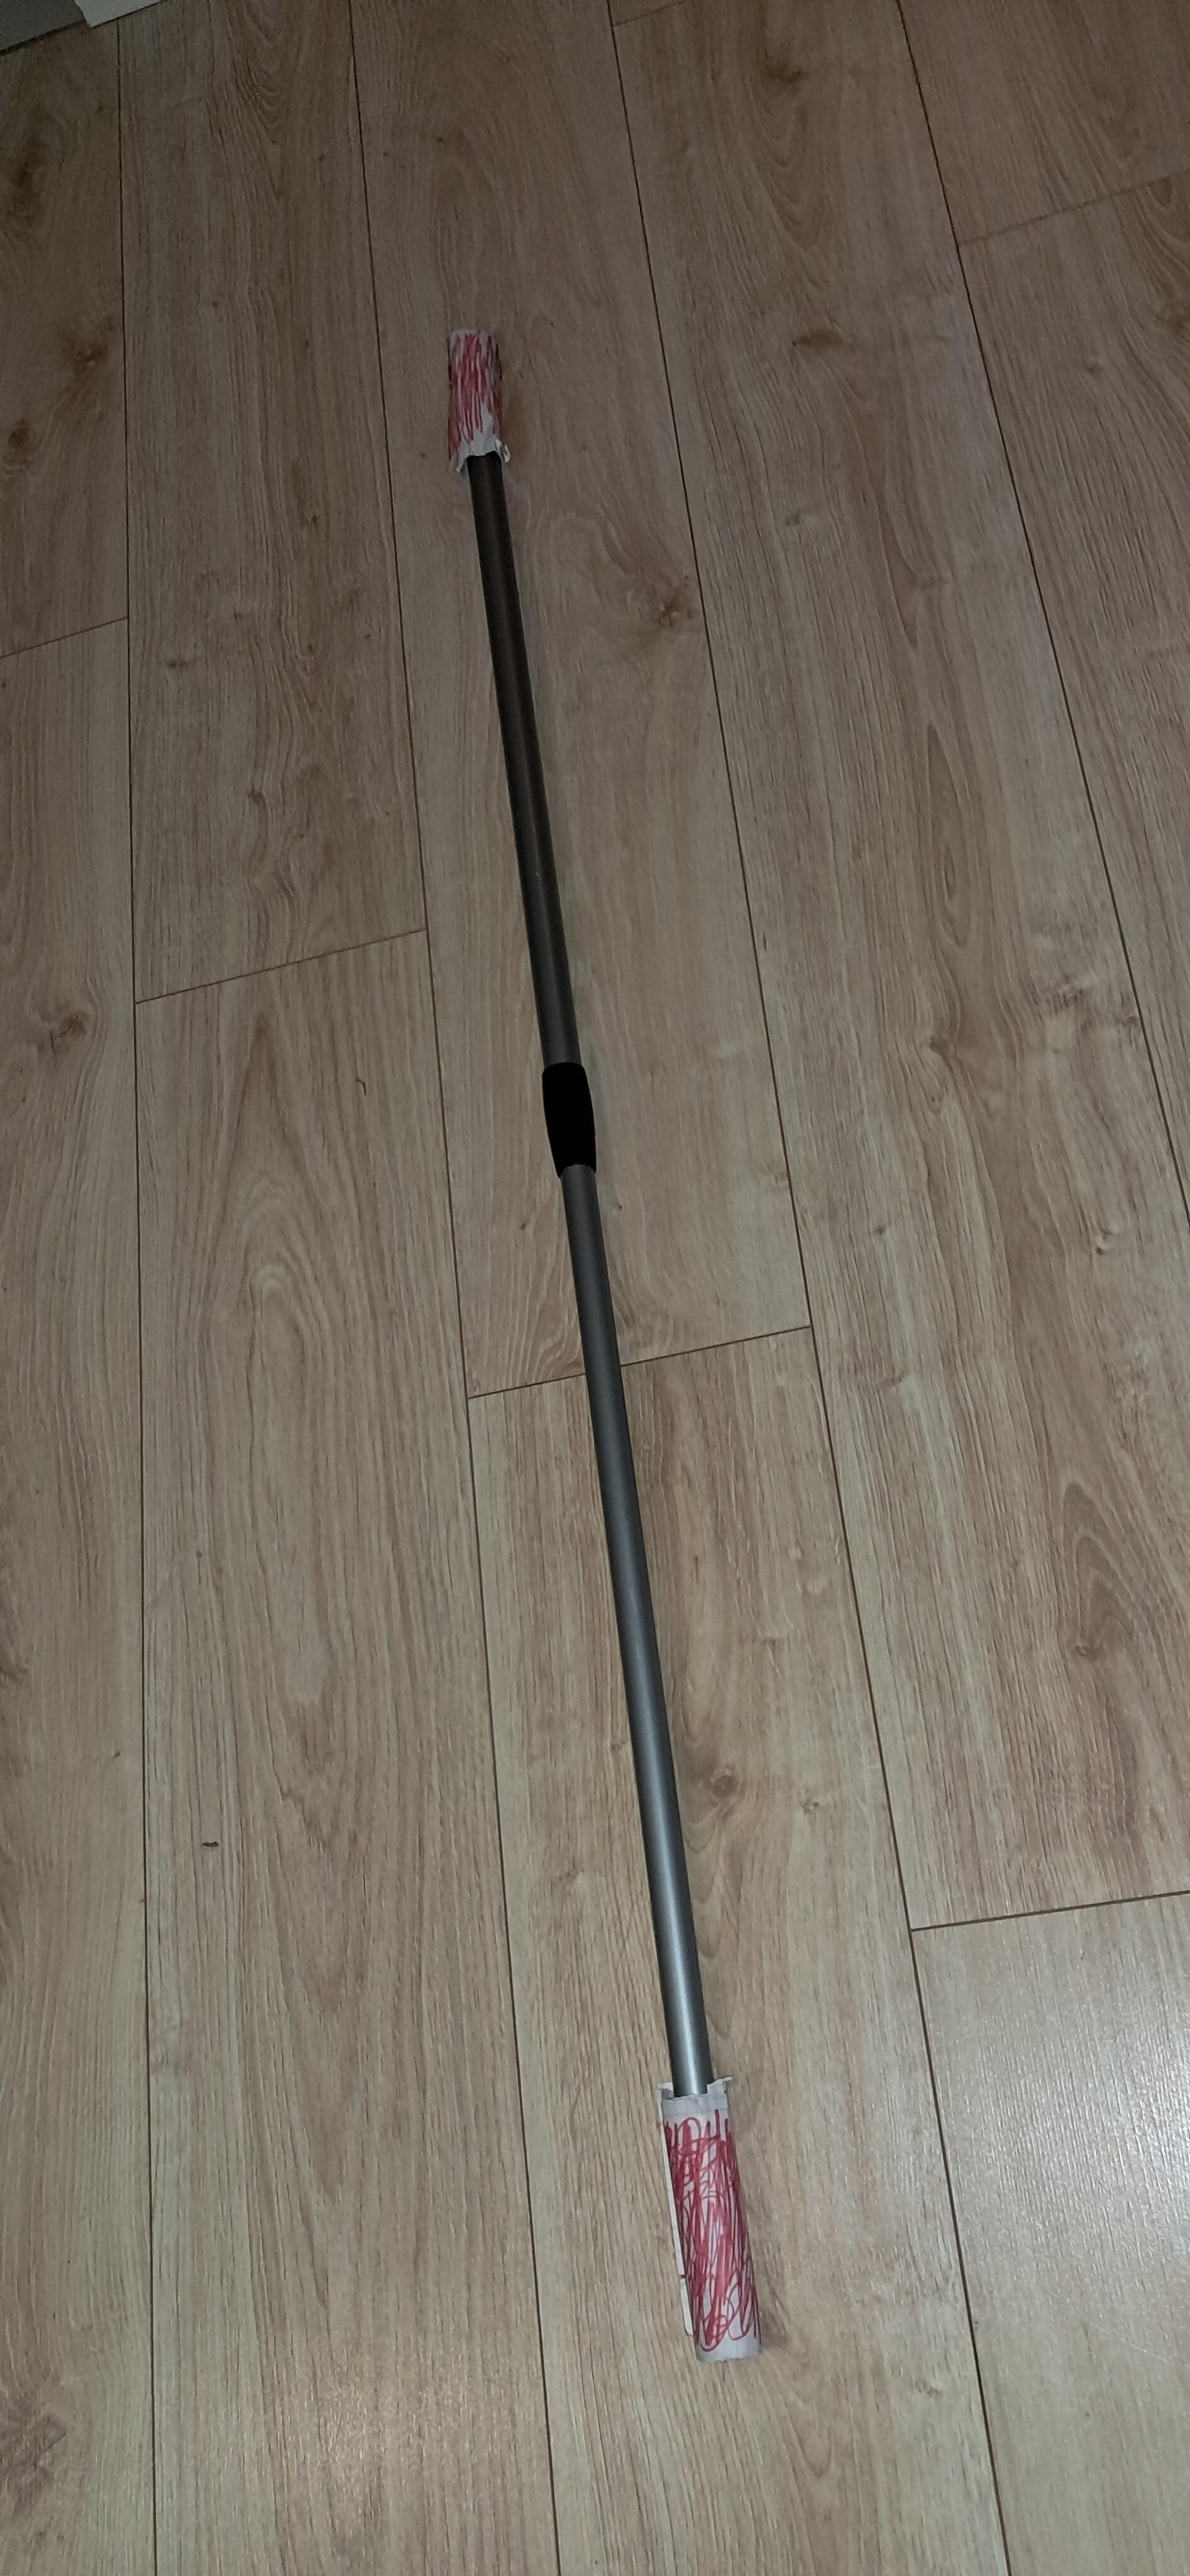broom-handle: (450, 330, 759, 2359)
